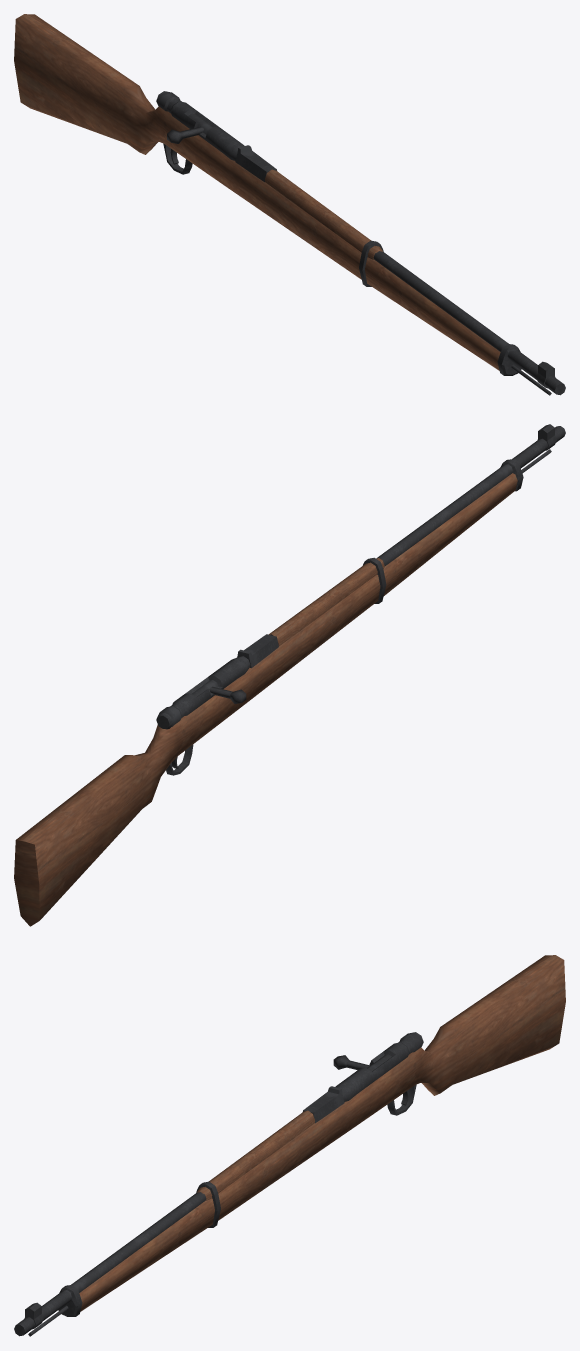
The picture shows the model from 3 angles, top to bottom: view 1: azimuth 30°, elevation 25°; view 2: azimuth 150°, elevation 25°; view 3: azimuth 330°, elevation 25°; orthographic projection.
Parts seen in each view (by area): view 1: 1213_Arisaka_30; view 2: 1213_Arisaka_30; view 3: 1213_Arisaka_30.
Boxes of the visible parts, x1=… form: 1213_Arisaka_30: x1=14, y1=14, x2=565, y2=395; 1213_Arisaka_30: x1=14, y1=424, x2=565, y2=926; 1213_Arisaka_30: x1=14, y1=955, x2=565, y2=1336.
Bounding box in the file's own units: 6.77 × 15.73 × 125.
Materials: 1 (1 with a texture image).
